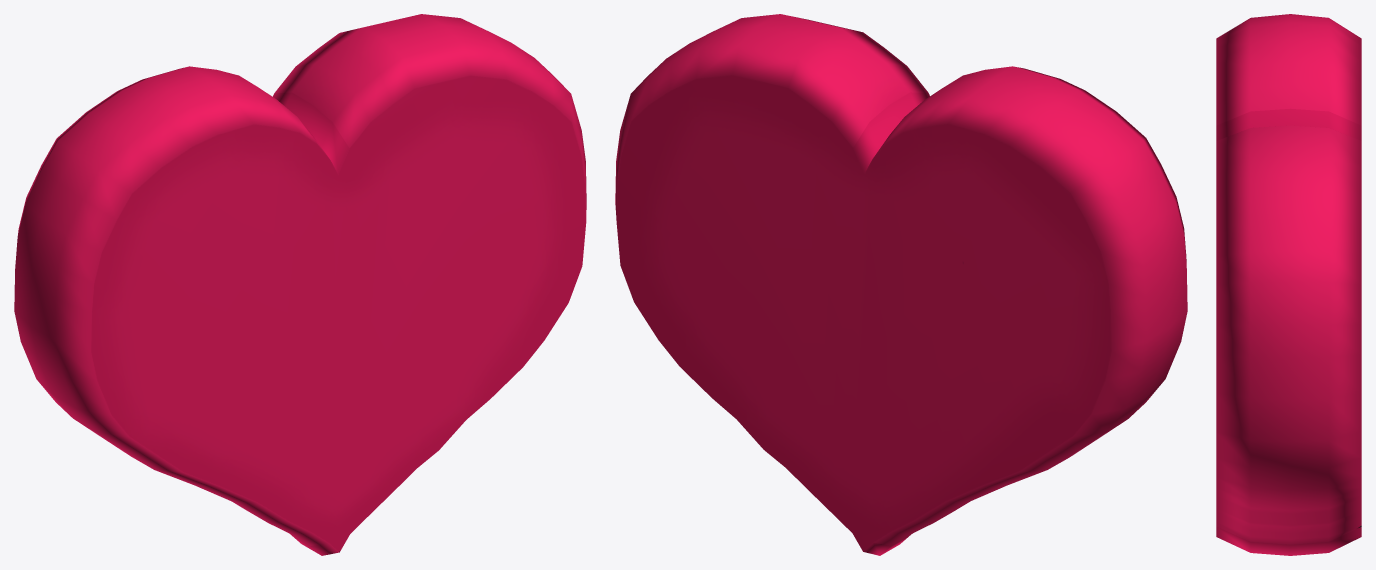
File: Heart.fbx
3 views of the same model, side by side, from view 1: azimuth 30°, elevation 25°; view 2: azimuth 150°, elevation 25°; view 3: azimuth 270°, elevation 25° (orthographic). The views are drawn at different scales.
Visible parts, largest first — view 1: Heart; view 2: Heart; view 3: Heart.
Boxes of the visible parts, x1=… form: Heart: x1=14, y1=14, x2=586, y2=555; Heart: x1=615, y1=14, x2=1187, y2=555; Heart: x1=1216, y1=14, x2=1361, y2=555.
Bounding box in the file's own units: 7.85 × 6.81 × 1.9.
